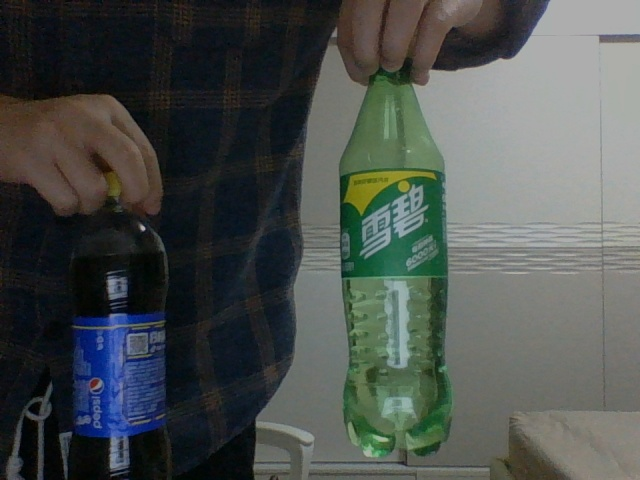Cola: (70, 173, 173, 475)
Sprite: (337, 64, 454, 457)
